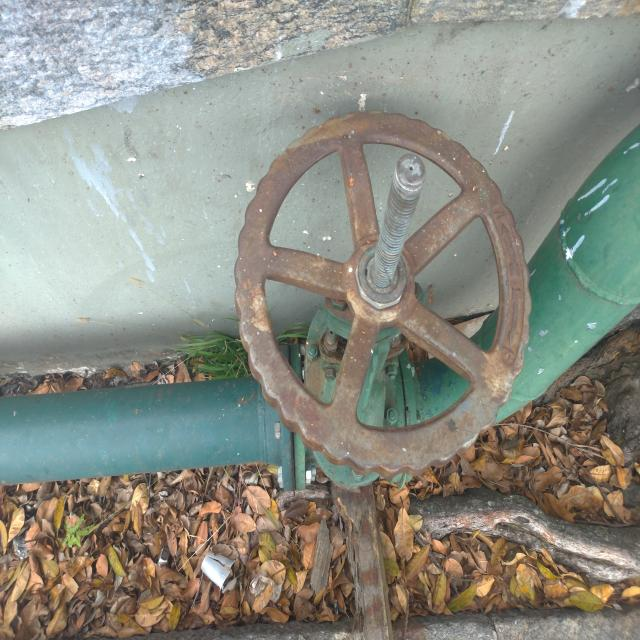gas: (2, 119, 638, 480)
